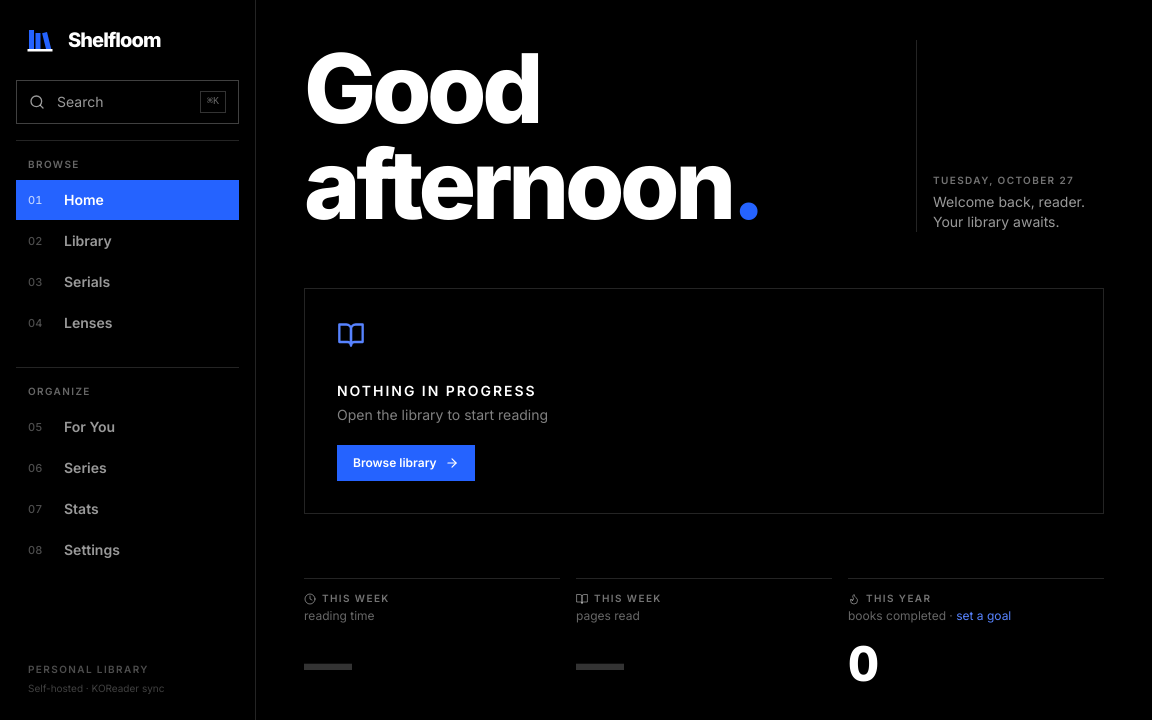
Scenario: App › navigates to stats page
Expected: the heading named "dashboard" is shown, [304, 40, 900, 232]
Click the text "Stats": (81, 509) [64, 499, 99, 519]
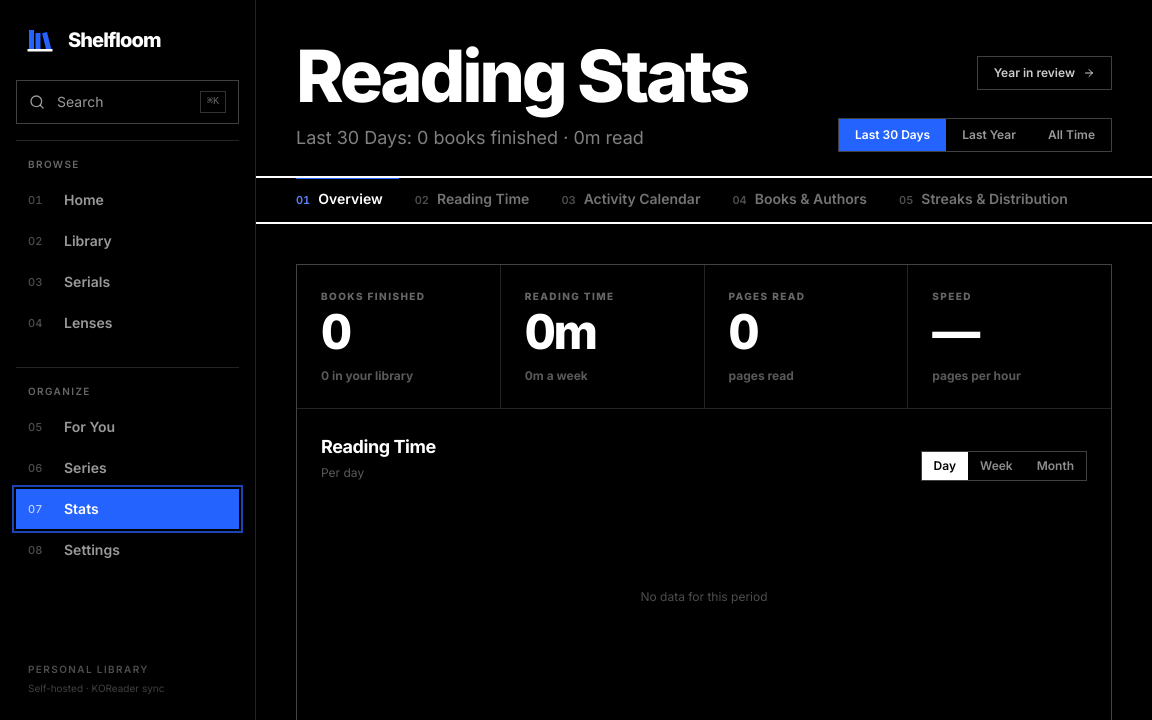
Expected: the heading "Reading Stats" is shown, [296, 32, 747, 119]
